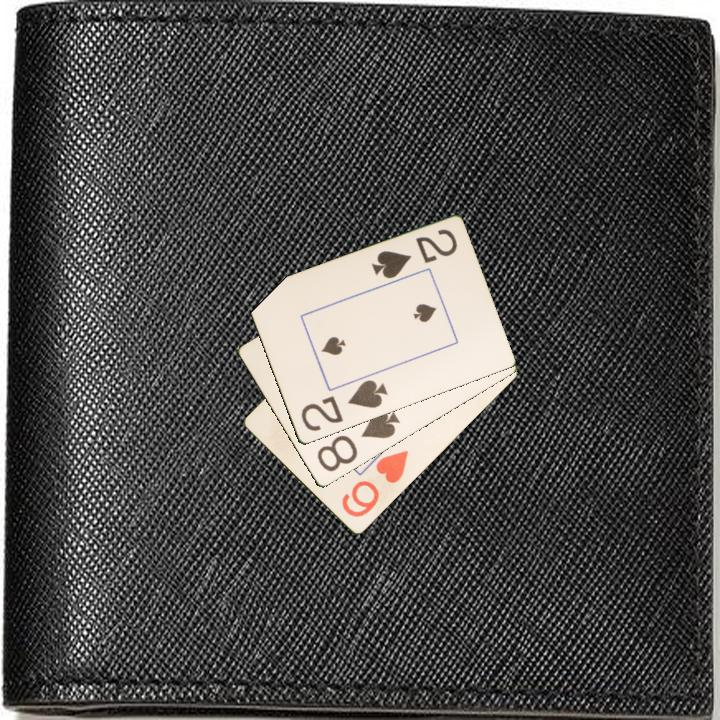2s: (297, 376, 390, 435), (368, 226, 460, 282)
6h: (338, 447, 411, 521)
8s: (313, 407, 403, 475)
